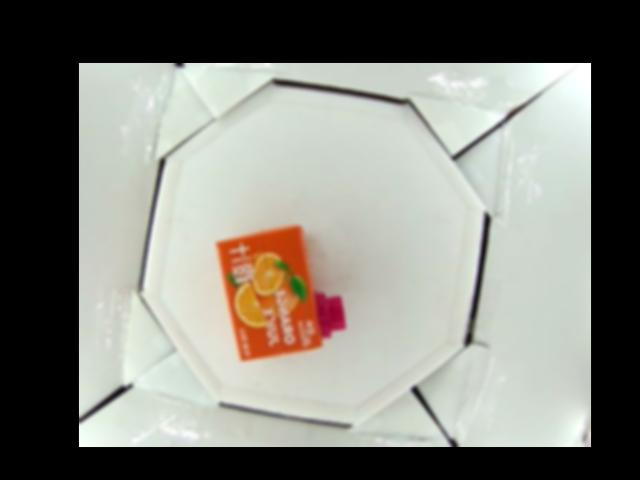Bottle: (215, 223, 345, 363)
